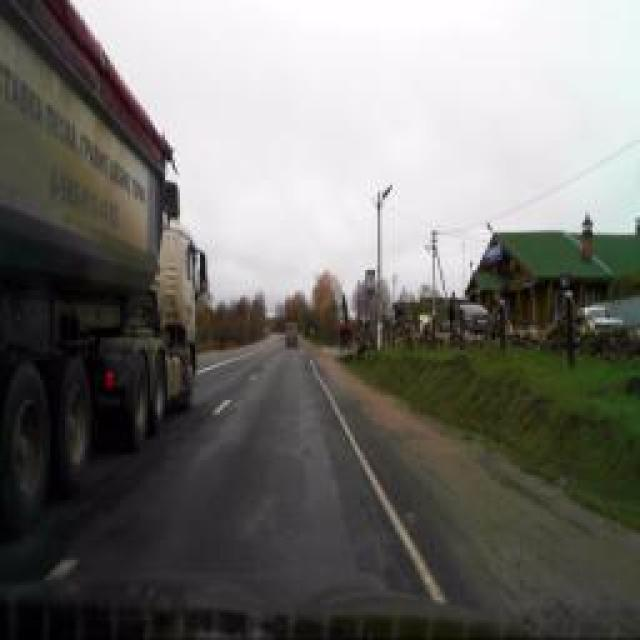sign: (365, 270, 375, 295)
